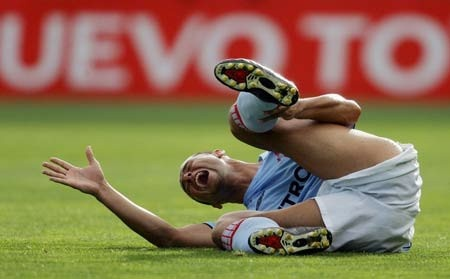falling: (17, 40, 442, 263)
